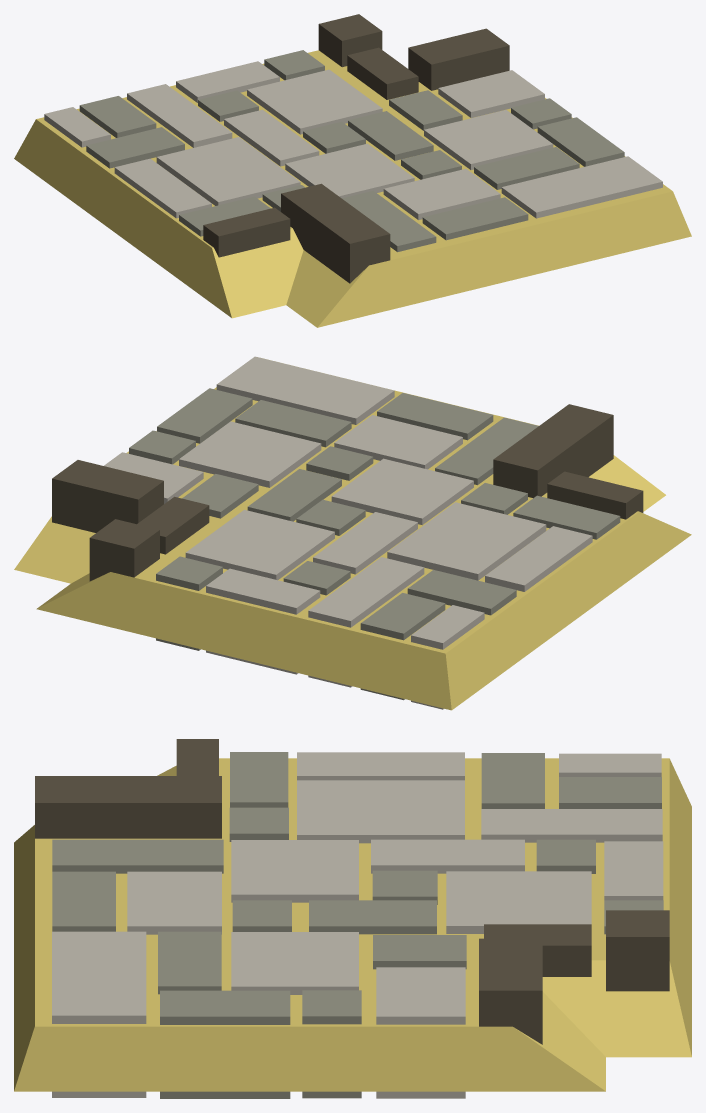
File: FourWayHalfFilled.fbx
The picture shows the model from 3 angles, top to bottom: view 1: azimuth 30°, elevation 25°; view 2: azimuth 150°, elevation 25°; view 3: azimuth 270°, elevation 25°; orthographic projection. The views are drawn at different scales.
Parts seen in each view (by area): view 1: Stone - Four Way Half Filled; view 2: Stone - Four Way Half Filled; view 3: Stone - Four Way Half Filled.
Boxes of the visible parts, x1,y1,x2,y2 form: Stone - Four Way Half Filled: [14, 14, 691, 327]; Stone - Four Way Half Filled: [14, 356, 691, 710]; Stone - Four Way Half Filled: [14, 739, 691, 1098].
Size of the model in its own units: 106 by 19.07 by 107.
